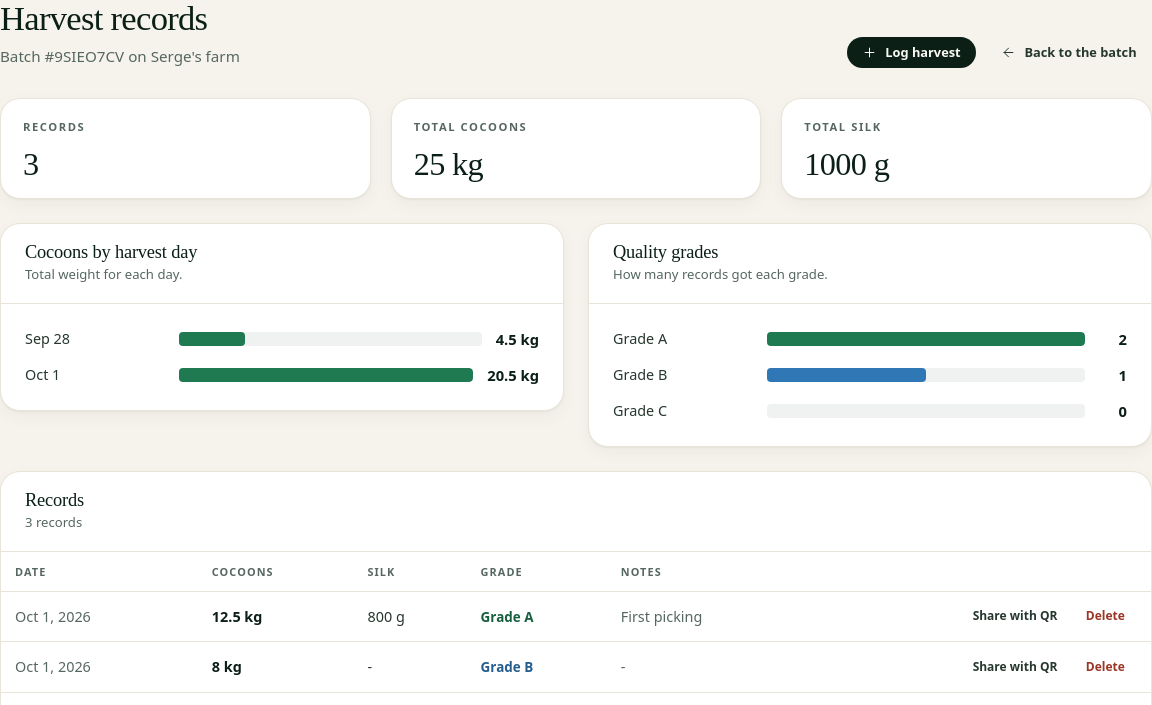
Harvest page › logs a harvest and shows it at once
Expected: the text "First picking" is shown, top-left (607, 591), bottom-right (796, 642)
Click the button "Log harvest".
click(911, 53)  # box top-left (847, 37), bottom-right (976, 68)
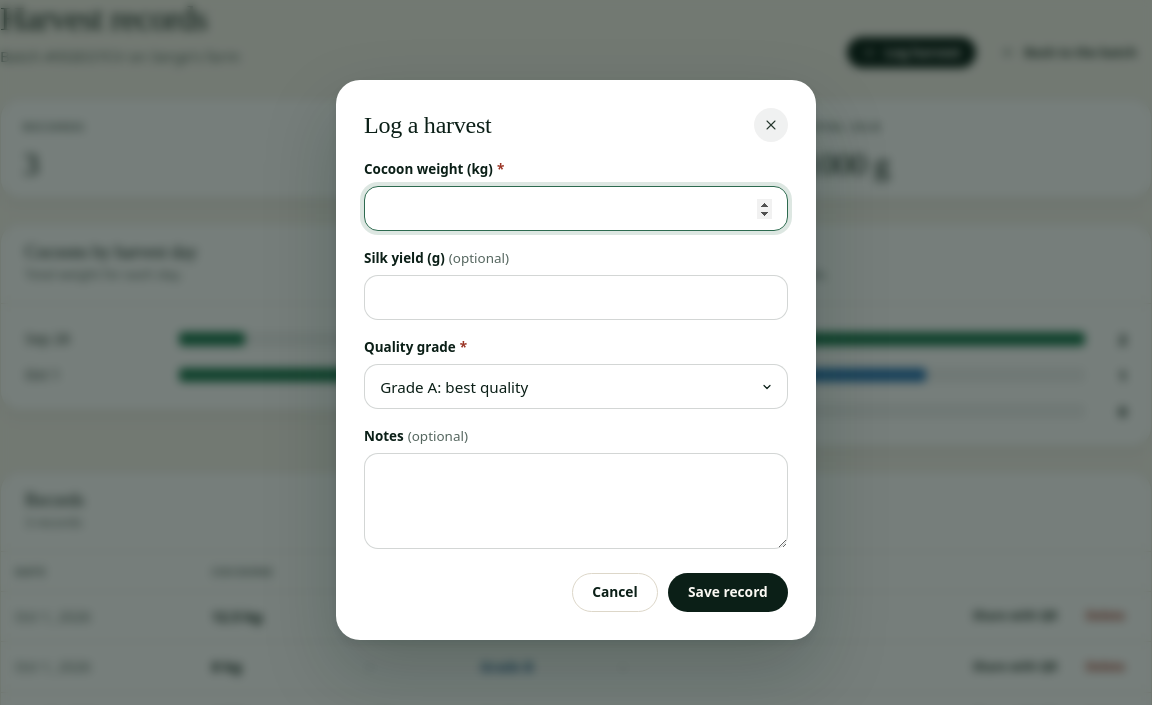
Type "6" into the number field labelled "Cocoon weight (kg) *".
click(576, 209); type("6")  # box top-left (364, 186), bottom-right (788, 231)
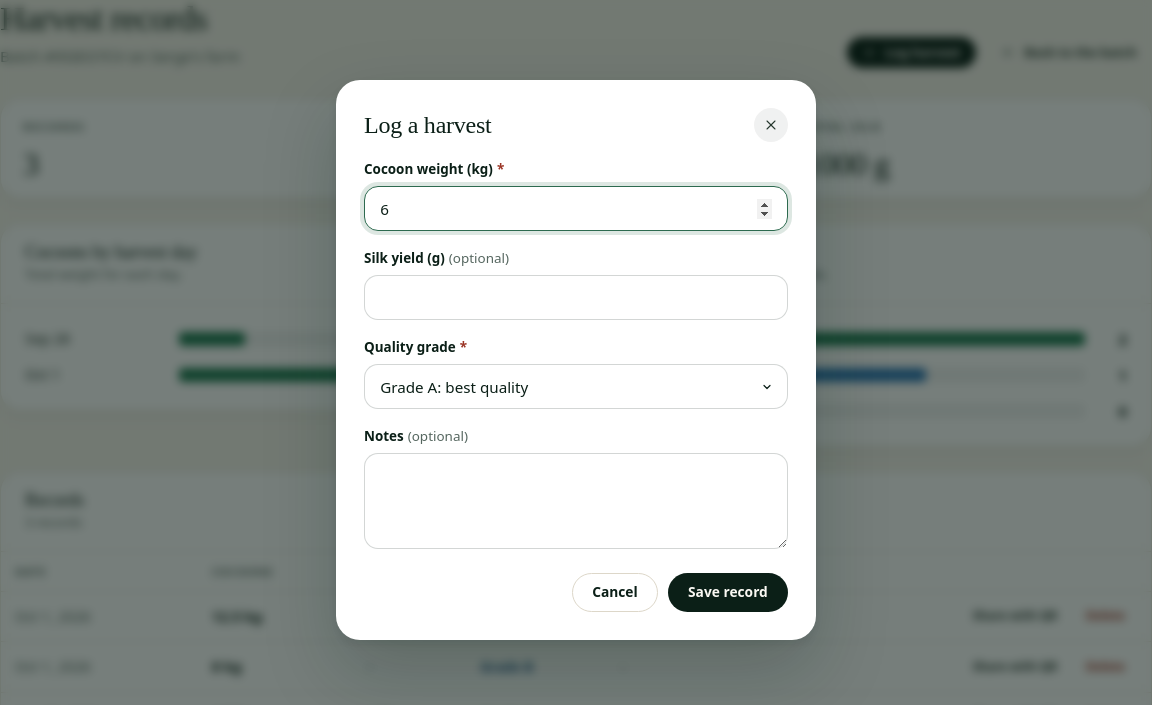
Select "Grade B: standard" in the dropdown labelled "Quality grade *" at (576, 387), box top-left (364, 364), bottom-right (788, 409)
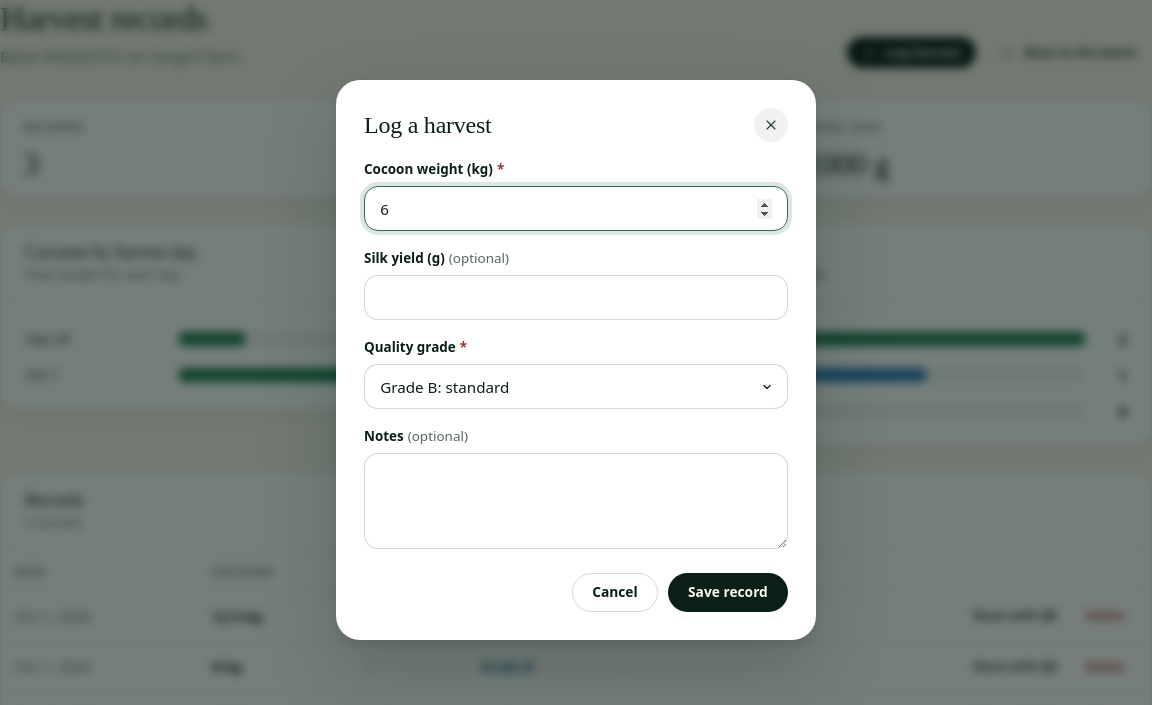
Type "Late tray" into the text box labelled "Notes (optional)".
click(576, 501); type("Late tray")  # box top-left (364, 453), bottom-right (788, 549)
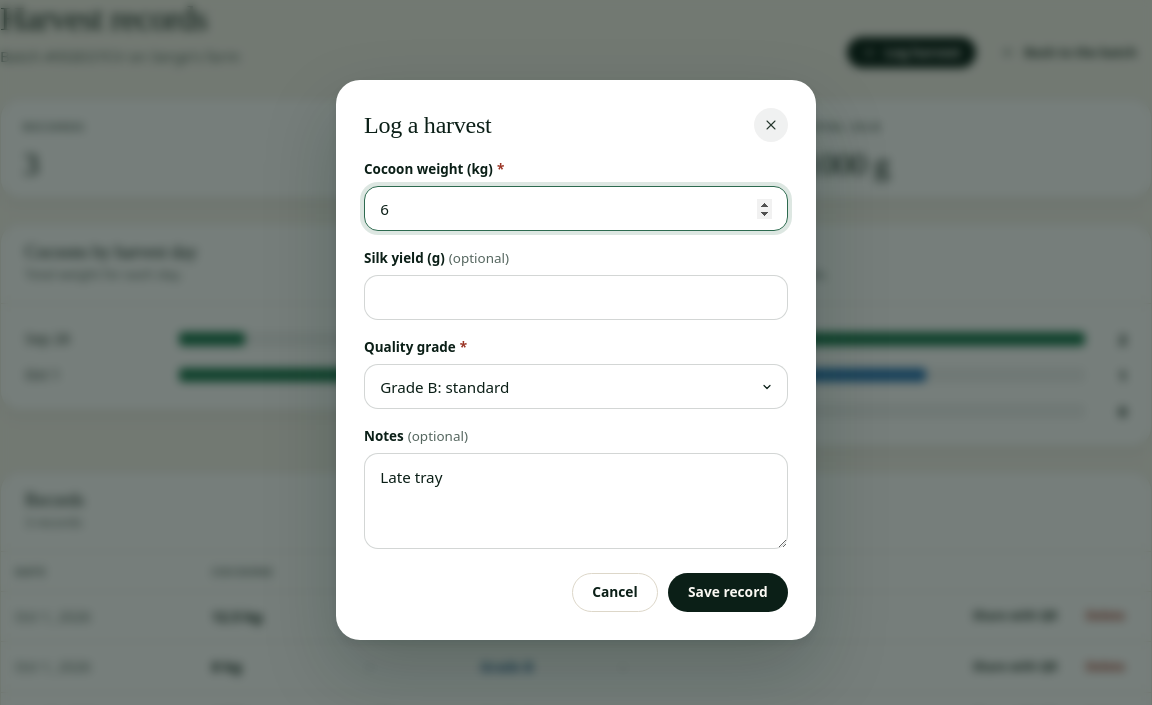
Click the button "Save record".
click(728, 593)  # box top-left (668, 573), bottom-right (788, 612)
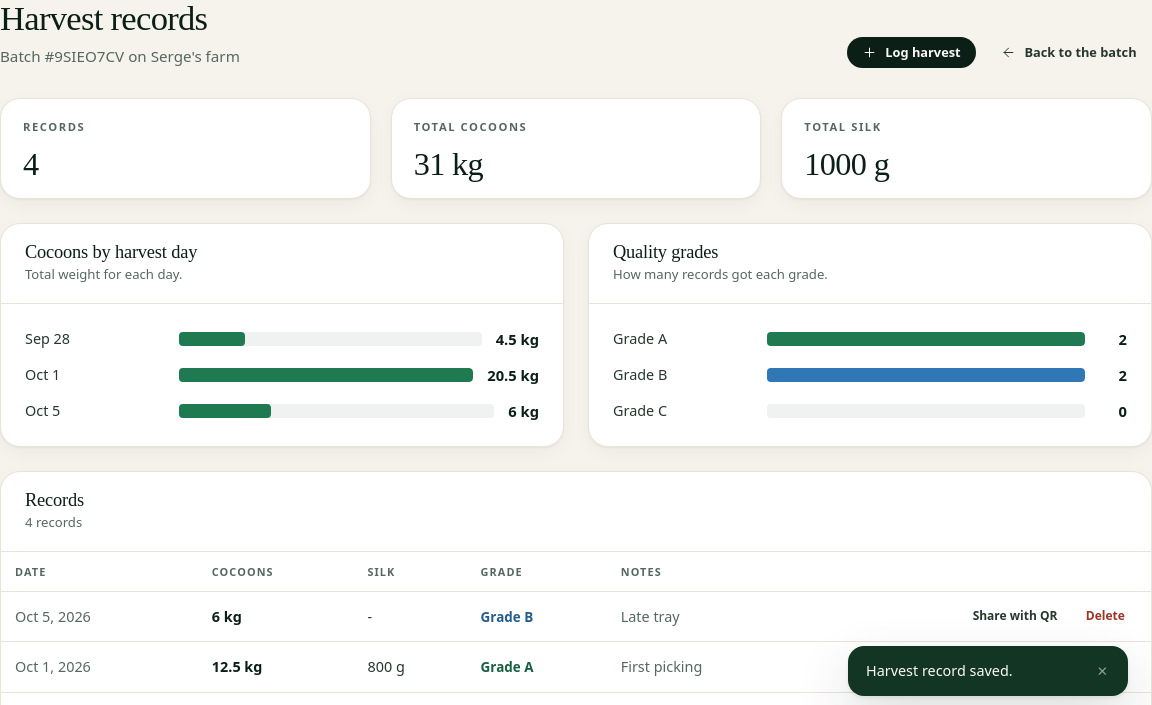
Now the text "Late tray" is shown, box top-left (607, 591), bottom-right (796, 642)
Now the dialog is gone
